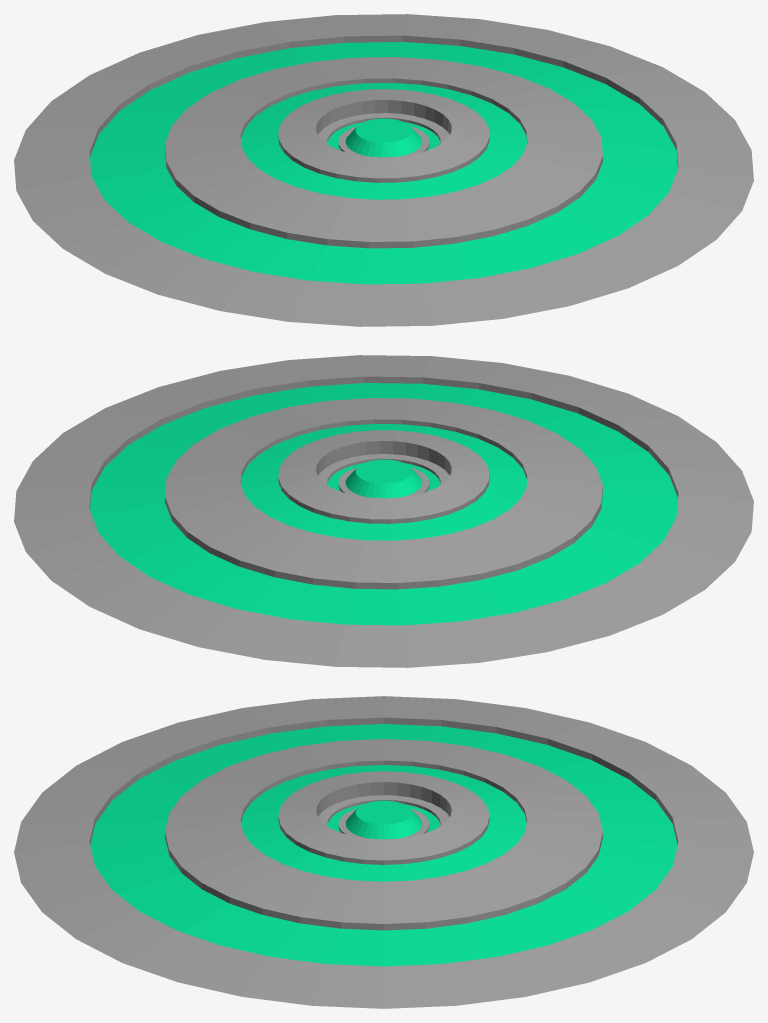
File: pad.fbx
The picture shows the model from 3 angles, top to bottom: view 1: azimuth 30°, elevation 25°; view 2: azimuth 150°, elevation 25°; view 3: azimuth 270°, elevation 25°; orthographic projection.
Visible parts, largest first — view 1: Cylinder; view 2: Cylinder; view 3: Cylinder.
Part boxes in pixels (bbox=[...]): Cylinder: bbox=[14, 14, 753, 326]; Cylinder: bbox=[14, 355, 753, 667]; Cylinder: bbox=[14, 696, 753, 1008].
Bounding box in the file's own units: 15.76 × 15.76 × 0.9827.
